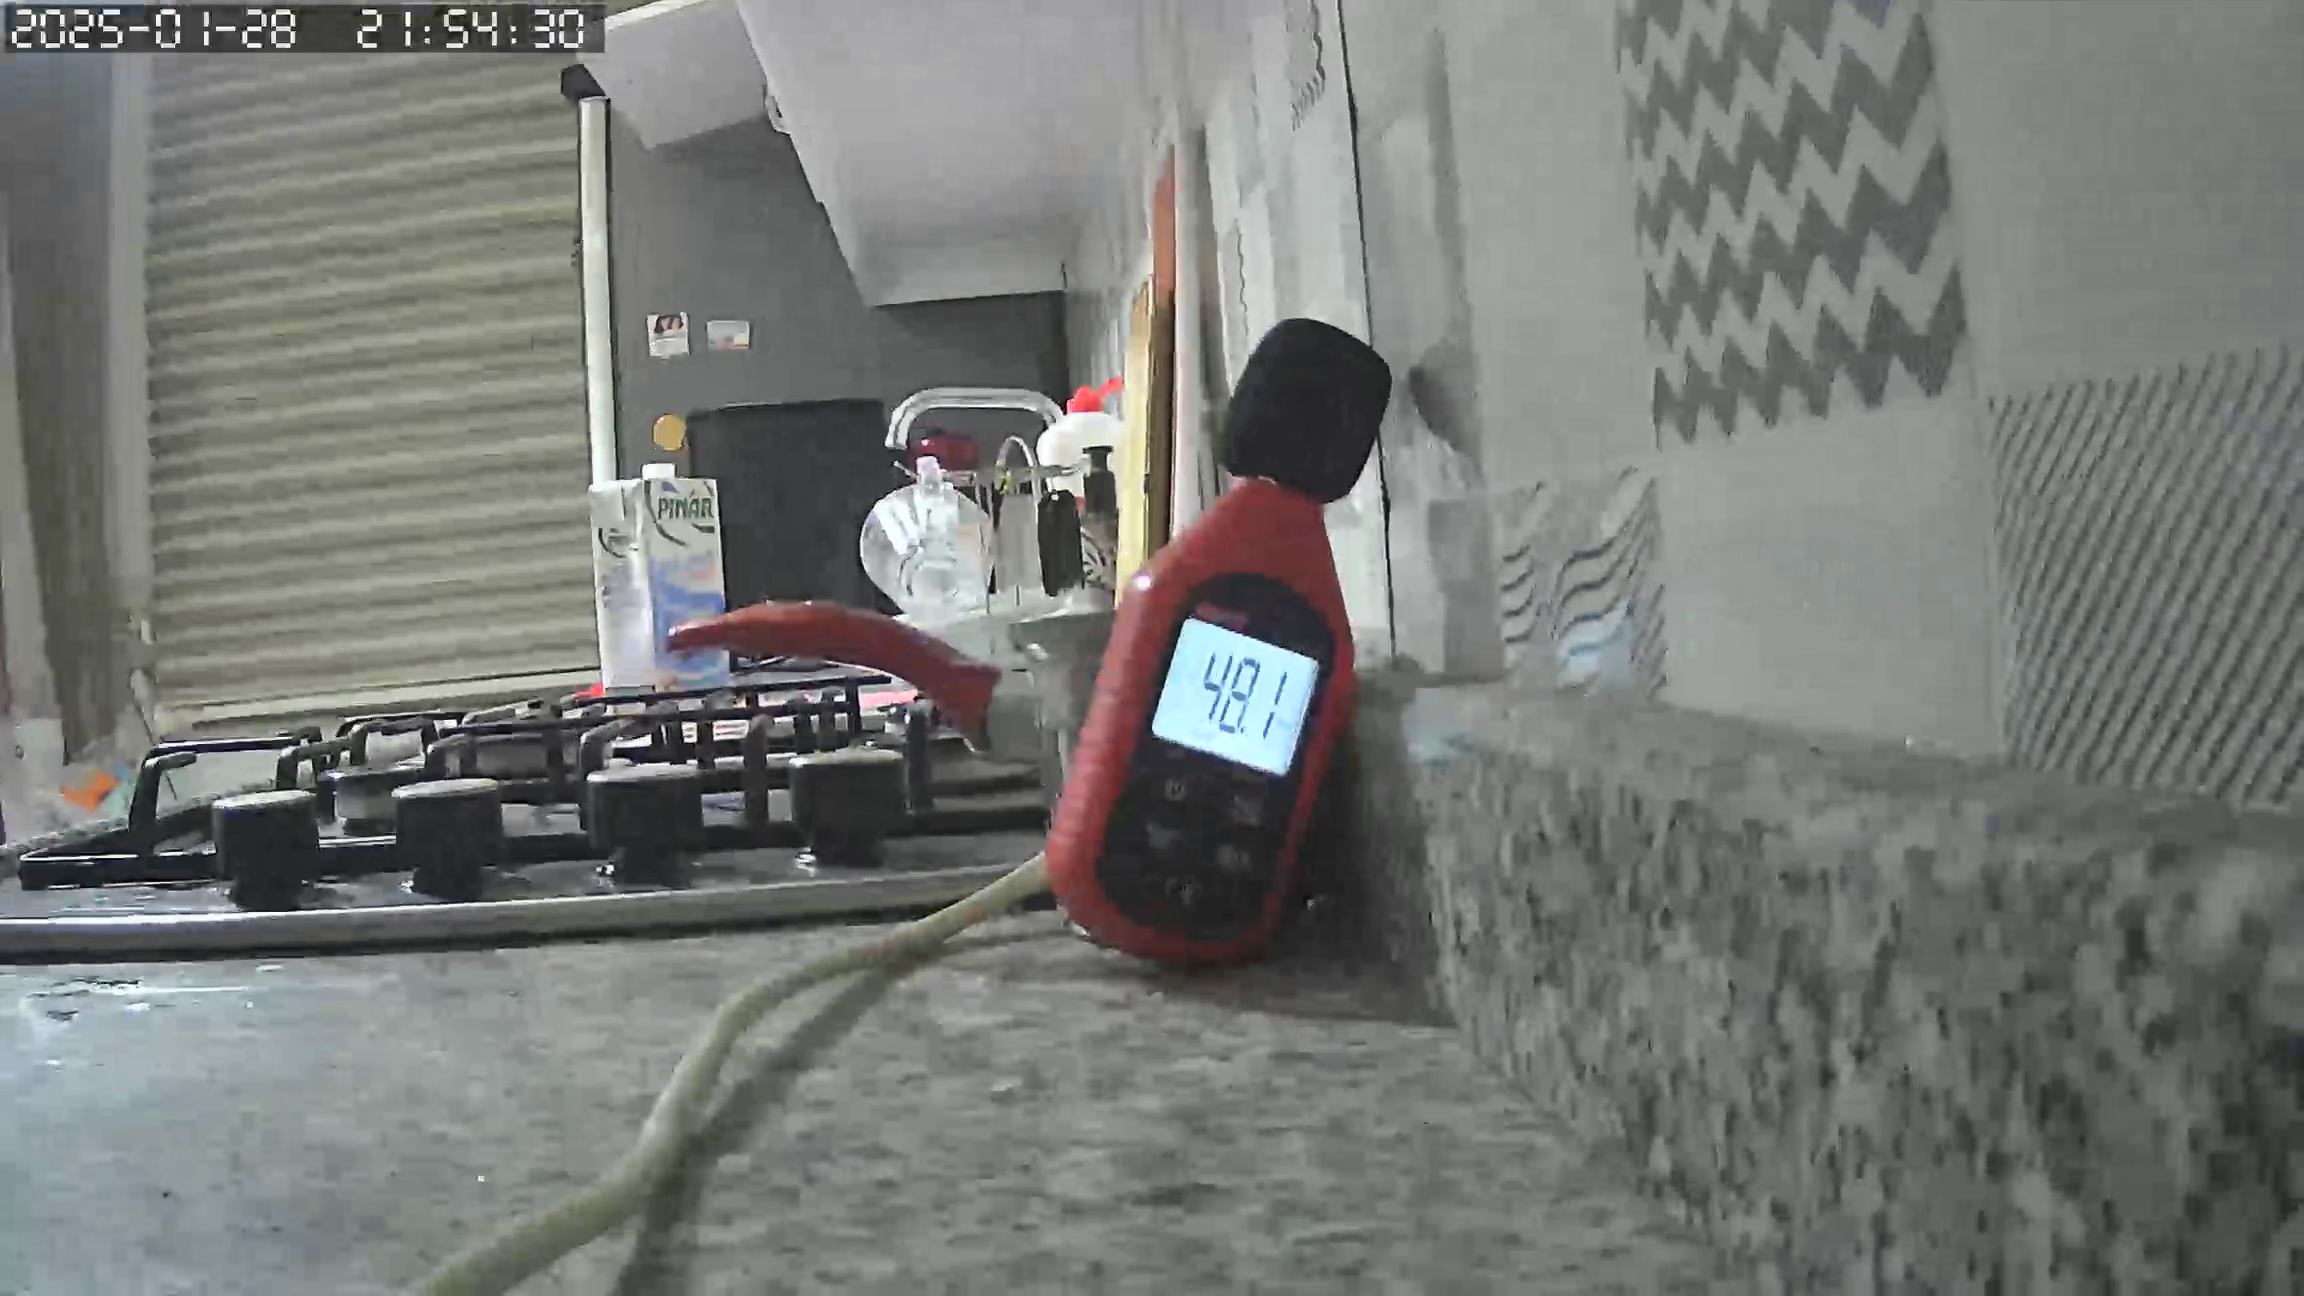screen: (1146, 616, 1320, 775)
